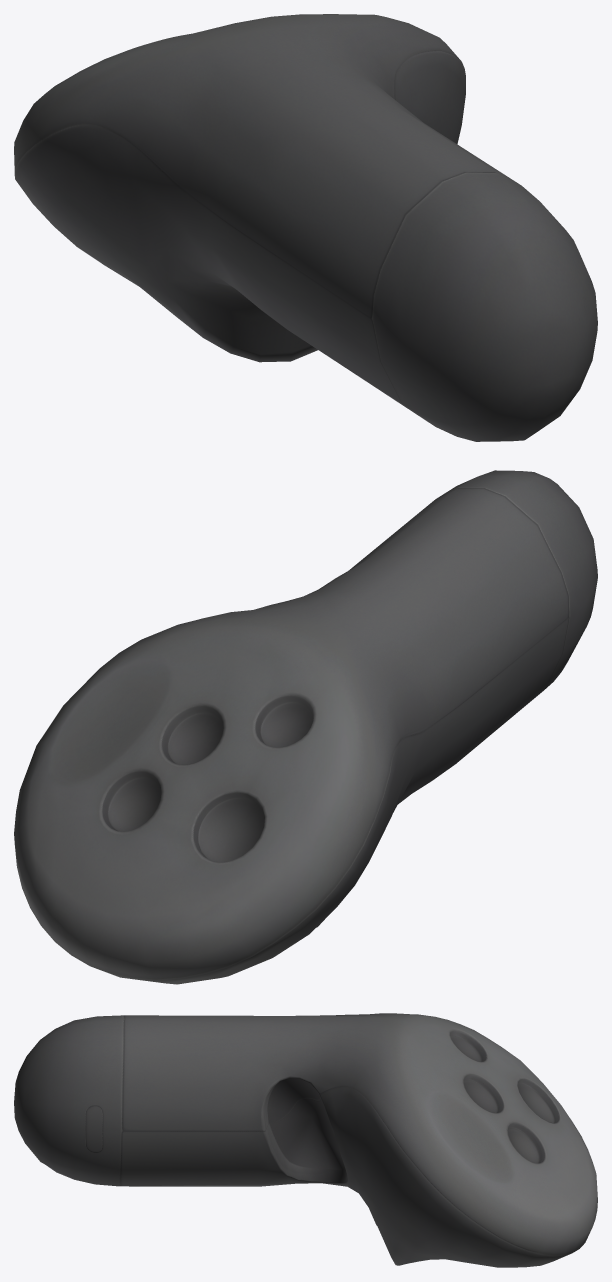
Rendered from L_body.obj.
3 renders of one model, top to bottom at view 1: azimuth 30°, elevation 25°; view 2: azimuth 150°, elevation 25°; view 3: azimuth 270°, elevation 25°, orthographic. The views are drawn at different scales.
Visible parts, largest first — view 1: L_body; view 2: L_body; view 3: L_body.
Boxes of the visible parts, x1,y1,x2,y2 form: L_body: (14,14,597,441); L_body: (14,470,597,984); L_body: (14,1013,597,1267).
Size of the model in its own units: 0.0633 by 0.0531 by 0.1237.
Materials: 1 (1 with a texture image).
